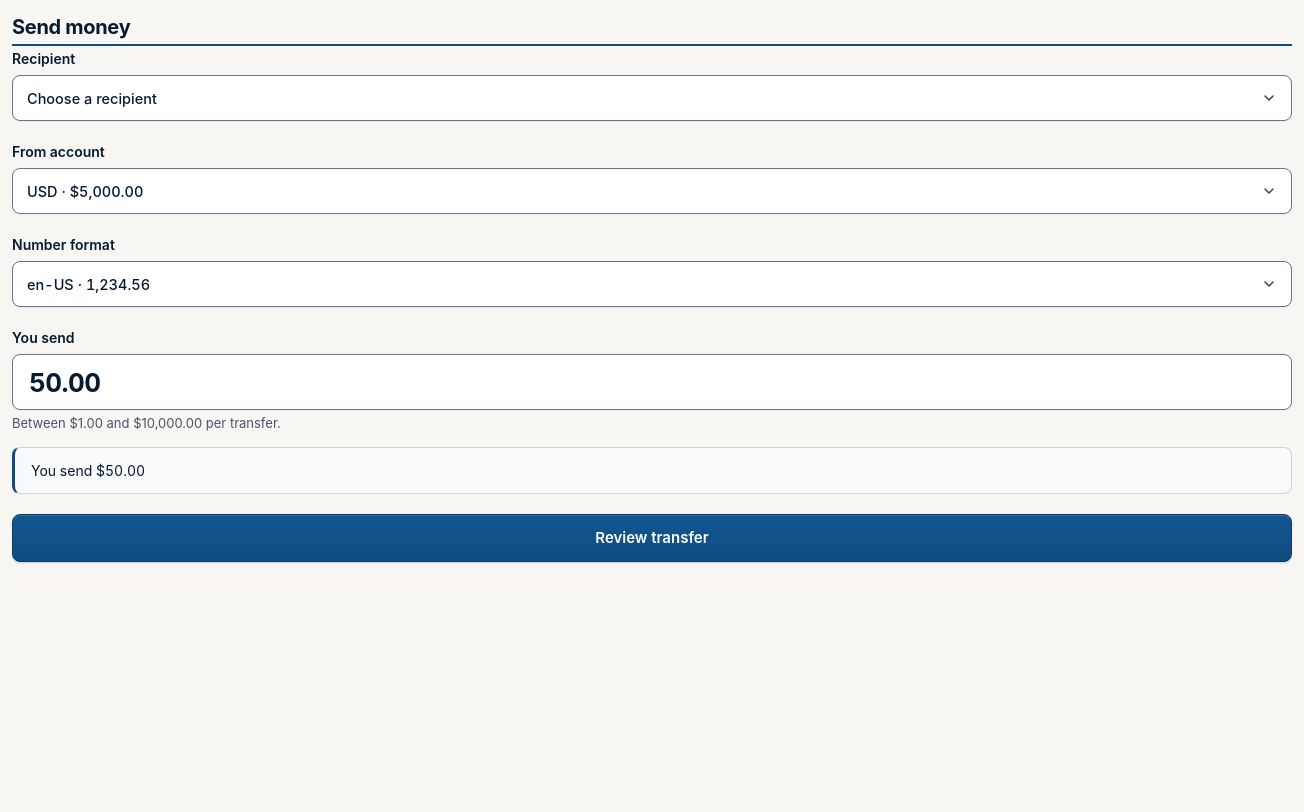
SendForm (FORM-01..FORM-06) › FORM-01: missing recipient blocks review, does not fetch quote, and shows error in summary and field
Step 1. Click the button "Review transfer" → (652,538), box [12,514,1292,562]
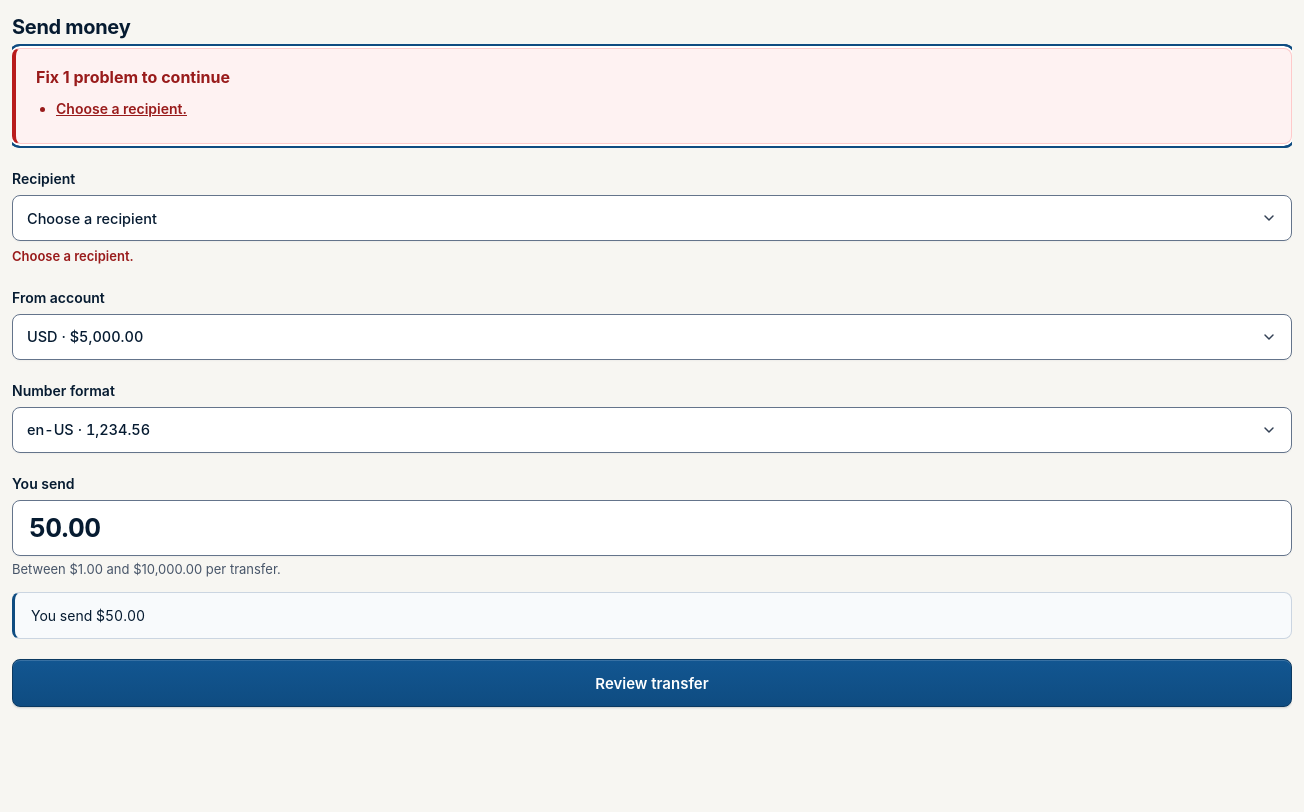
Check: the text with id "recipient-error" reads "Choose a recipient.", box [12,248,134,264]
Check: the message "Fix 1 problem to continue Choose a recipient." is shown, box [12,48,1292,144]
Check: the message shows "Fix 1 problem to continue", box [36,67,230,87]
